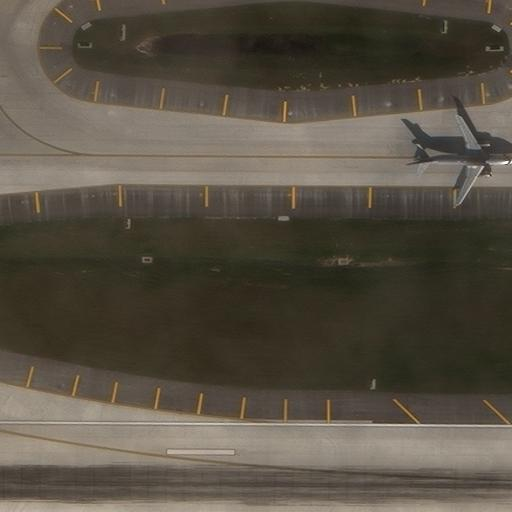Medium Civil Transport: (409, 116, 511, 208)
